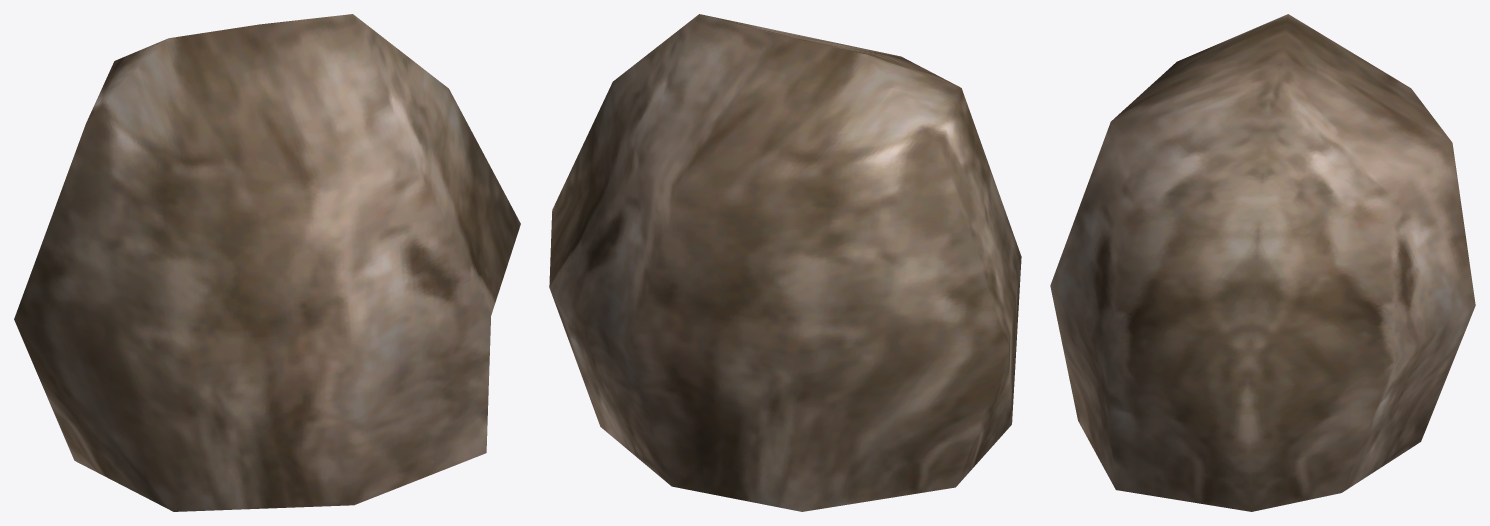
File: OVERHILL_A_01_ROCK48.fbx
The picture shows the model from 3 angles, left to right: view 1: azimuth 30°, elevation 25°; view 2: azimuth 150°, elevation 25°; view 3: azimuth 270°, elevation 25°; orthographic projection. The views are drawn at different scales.
Parts seen in each view (by area): view 1: OVERHILL_A_01_ROCK48; view 2: OVERHILL_A_01_ROCK48; view 3: OVERHILL_A_01_ROCK48.
Boxes of the visible parts, x1,y1,x2,y2 form: OVERHILL_A_01_ROCK48: (14, 14, 520, 511); OVERHILL_A_01_ROCK48: (549, 14, 1021, 511); OVERHILL_A_01_ROCK48: (1050, 14, 1475, 511).
Size of the model in its own units: 14529 by 11677 by 12044.
1 material, 1 textured.
